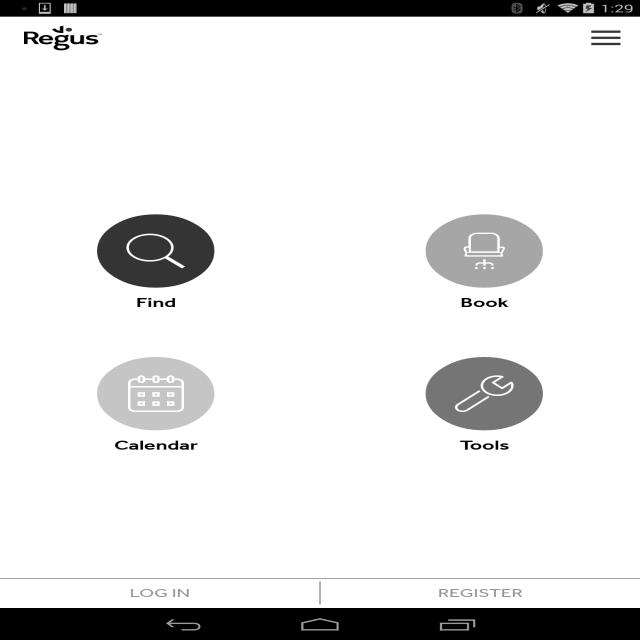ImageButton: (577, 23, 638, 50)
ImageView: (419, 210, 550, 290), (89, 356, 228, 430), (92, 216, 225, 287), (420, 356, 539, 434)
TextView: (108, 436, 223, 452), (428, 580, 530, 598), (118, 582, 205, 601), (19, 32, 110, 50), (451, 295, 518, 314), (118, 292, 188, 310), (457, 438, 526, 454)
